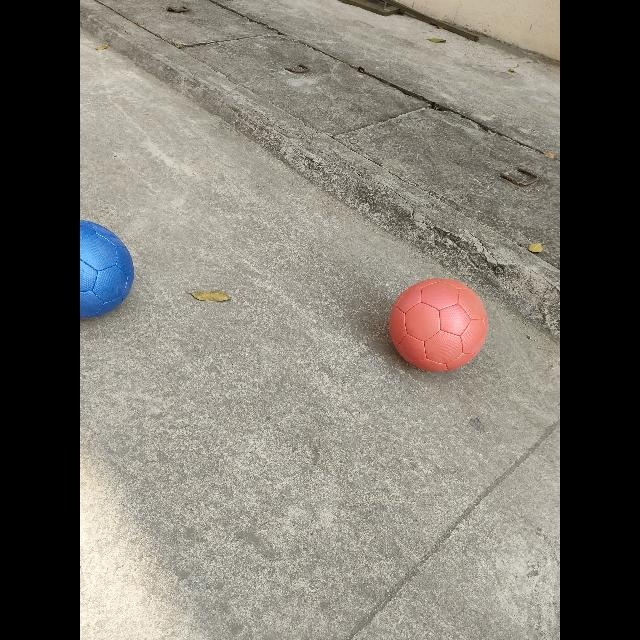B: (80, 220, 134, 318)
R: (389, 279, 488, 371)
